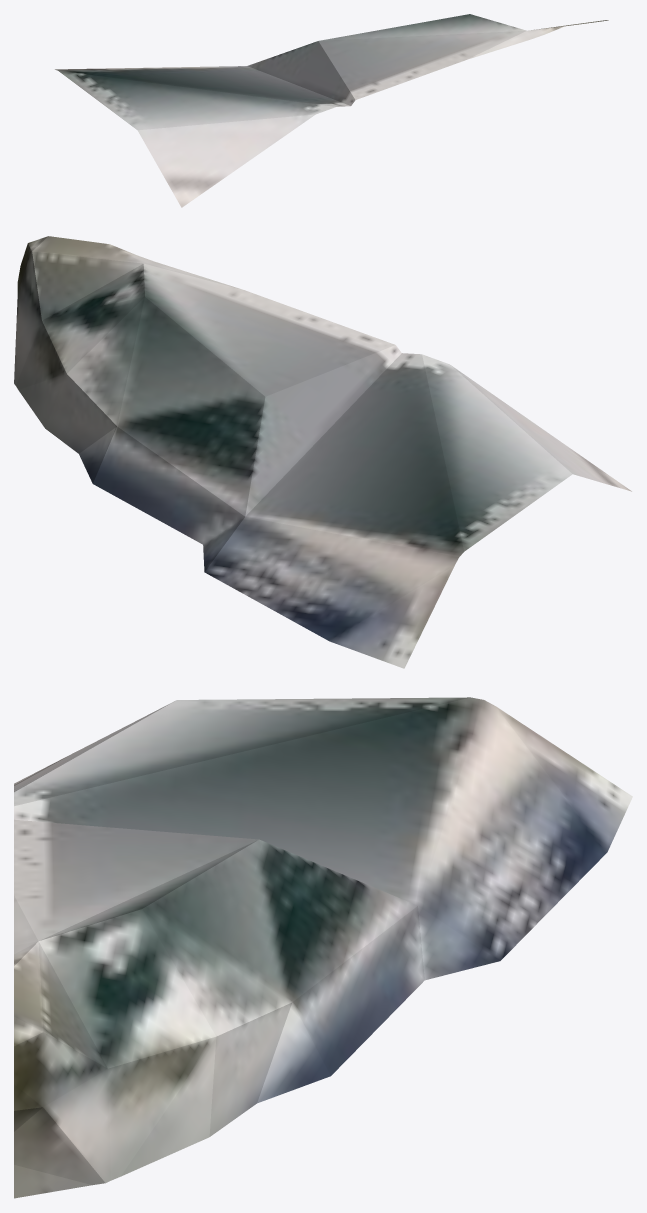
3 views of the same model, one above another, from view 1: azimuth 30°, elevation 25°; view 2: azimuth 150°, elevation 25°; view 3: azimuth 270°, elevation 25° (orthographic). The views are drawn at different scales.
Size of the model in its own units: 1.45 by 0.2971 by 0.9328.
Materials: 1 (1 with a texture image).
